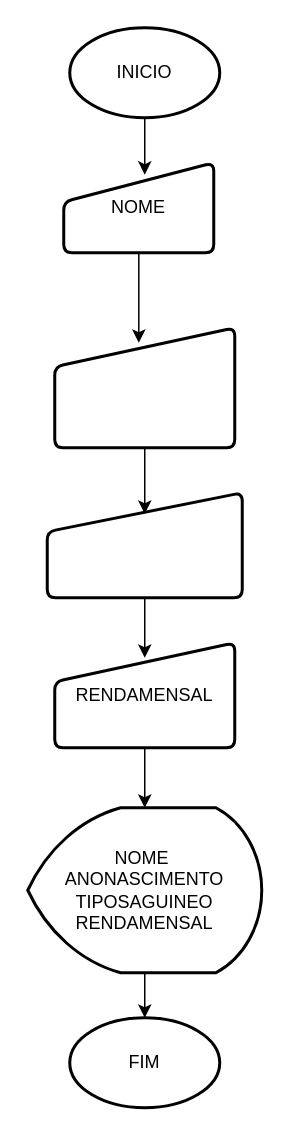
The diagram is 288 pixels wide and 1134 high, and some of its shapes have lost their labels. The shapes that lost their labels are listed below. From the top down, each one's centre as x and y in pixels, then its label:
At (x=144, y=387): "ANONASCIMENTO".
At (x=144, y=544): "TIPOSANGUINEO".
